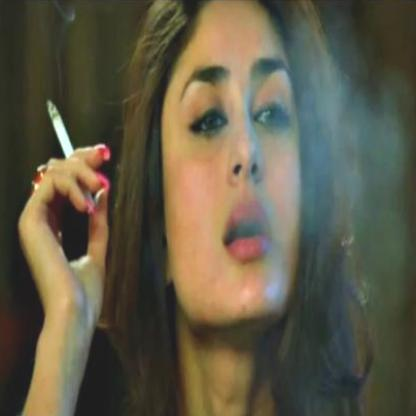cigarette: (45, 99, 75, 158)
person: (125, 0, 334, 415)
smoke: (300, 57, 408, 186)
